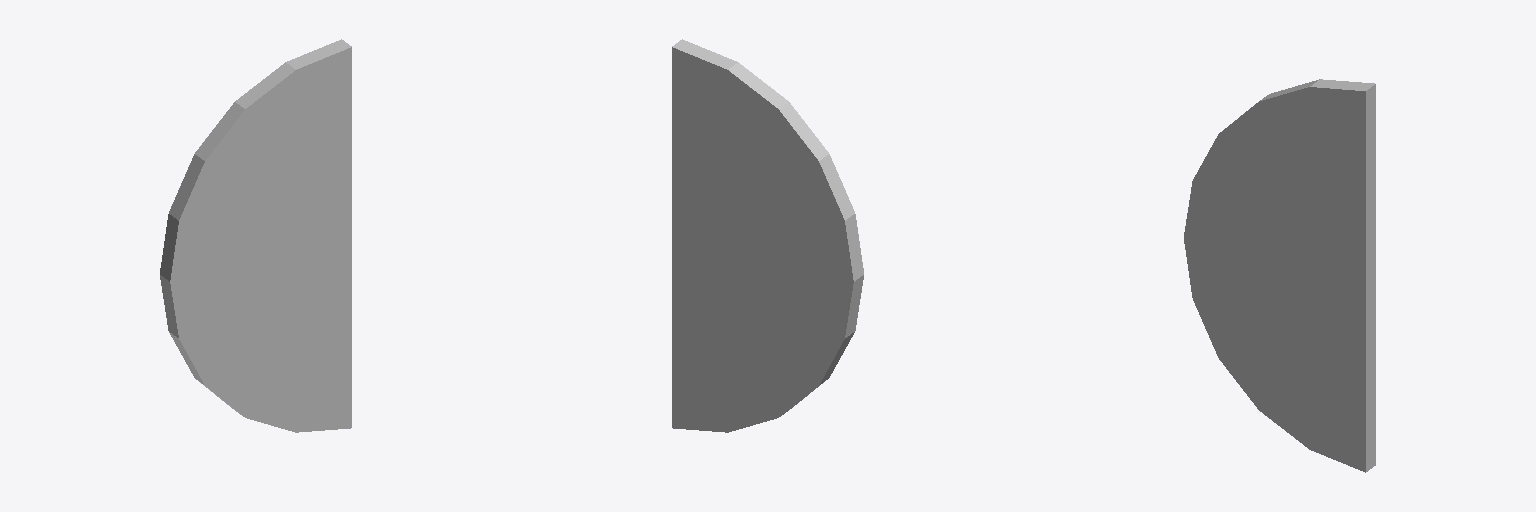
Rendered from half_circle.obj.
3 views of the same model, side by side, from view 1: azimuth 30°, elevation 25°; view 2: azimuth 150°, elevation 25°; view 3: azimuth 330°, elevation 25° (orthographic).
Parts seen in each view (by area): view 1: obj_0; view 2: obj_0; view 3: obj_0.
Part boxes in pixels (x1,y1,x2,y2): obj_0: (160,39,351,432); obj_0: (672,39,863,432); obj_0: (1184,79,1375,472).
Bounding box in the file's own units: 10 × 20 × 1.